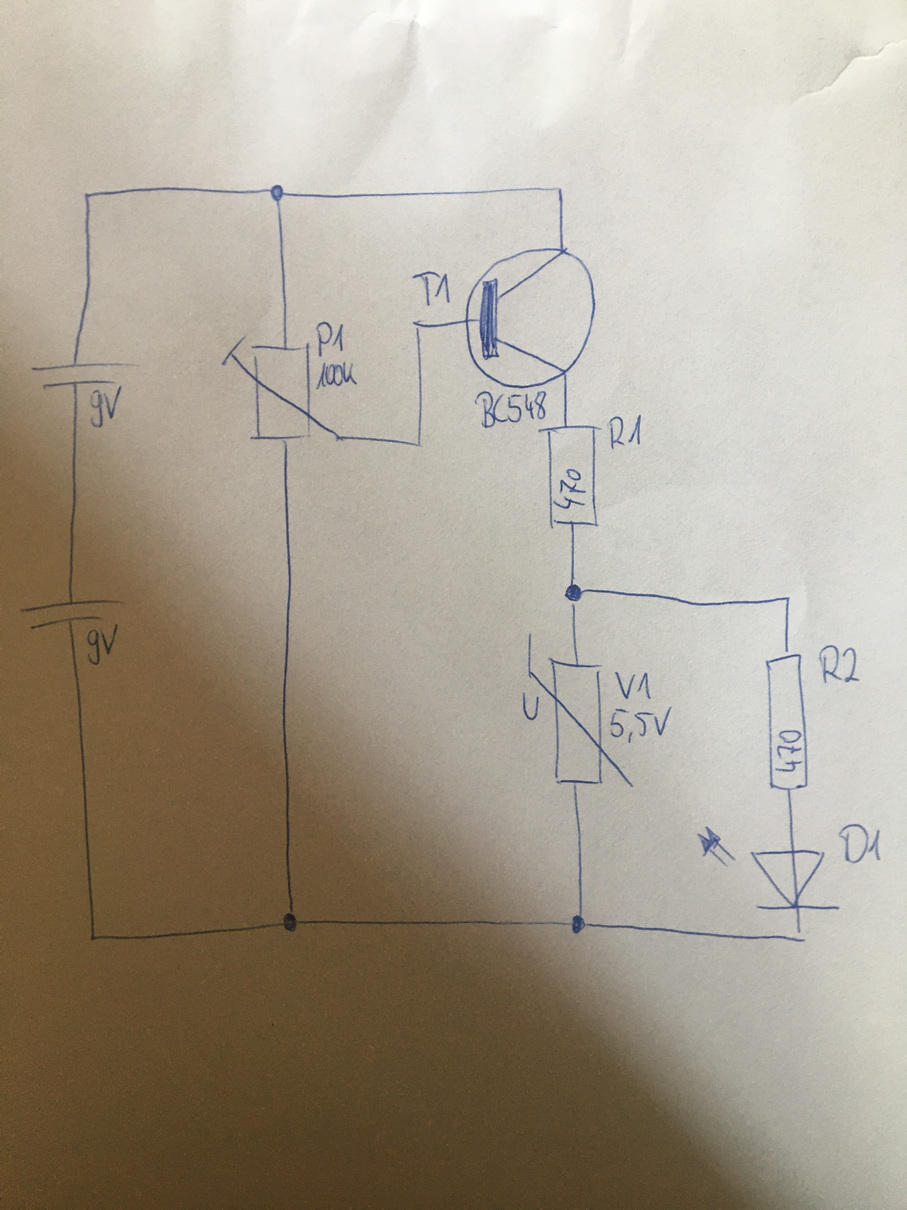diode.light_emitting: (695, 824, 842, 912)
junction: (563, 581, 586, 607), (280, 908, 301, 933), (569, 913, 589, 936), (268, 183, 286, 203), (791, 928, 809, 946), (87, 931, 101, 946), (80, 188, 94, 202), (410, 318, 423, 333), (553, 183, 567, 196), (781, 592, 794, 605), (413, 438, 424, 450)
resistor: (537, 421, 605, 533), (763, 648, 812, 793)
resistor.adjustable: (221, 333, 342, 448)
text: (473, 388, 549, 429), (607, 704, 674, 747), (837, 819, 883, 867), (815, 642, 864, 687), (81, 622, 124, 667), (606, 411, 650, 453), (411, 267, 454, 309), (552, 465, 588, 512), (88, 384, 124, 430), (314, 360, 360, 394), (772, 727, 803, 777), (613, 666, 655, 702), (315, 320, 347, 359), (519, 689, 545, 724)
transistor: (463, 245, 598, 388)
varistor: (526, 630, 635, 790)
voltage.dc: (19, 594, 127, 631), (27, 359, 139, 390)
